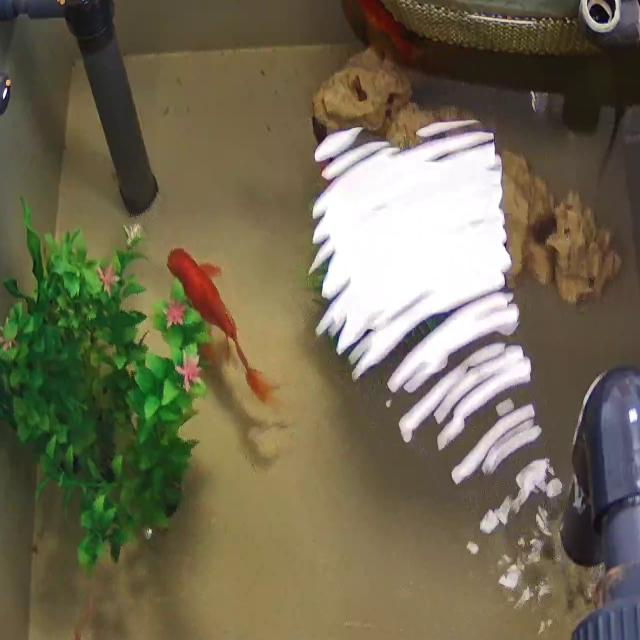fish: (165, 245, 282, 404), (298, 0, 434, 70)
